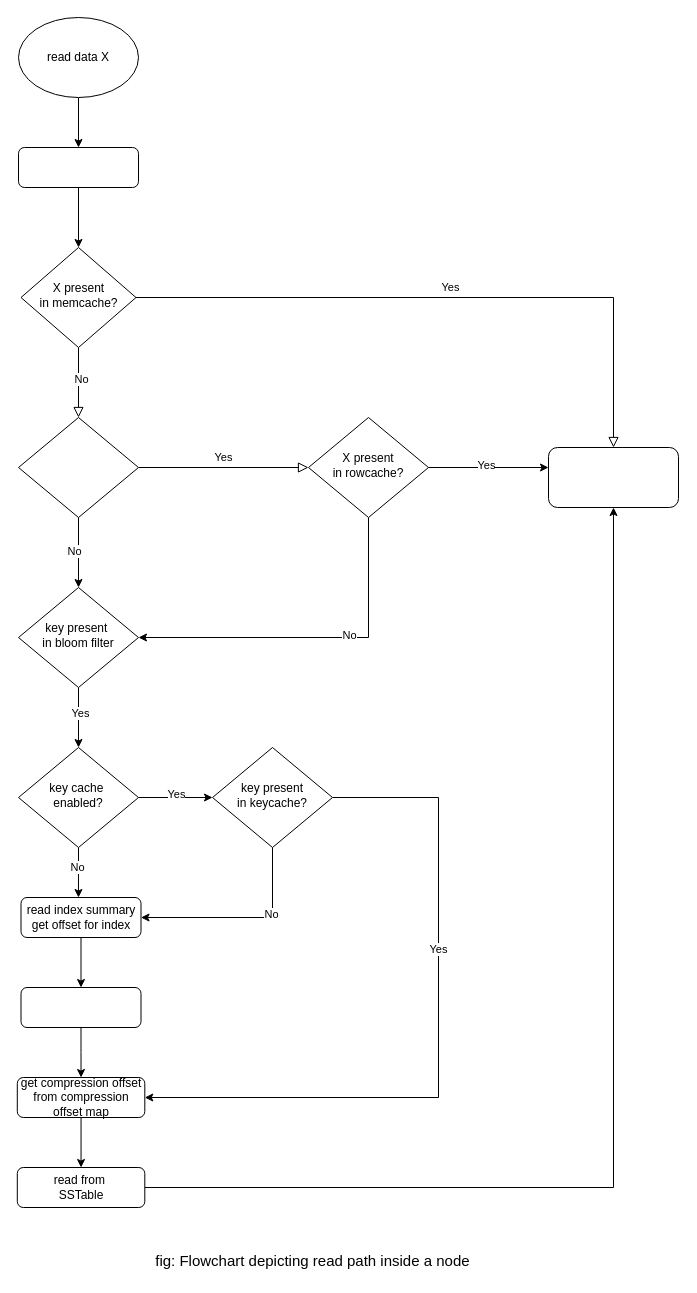
This 697x1293 diagram has some shape labels left out. Each missing label, with the centre of its shape:
Check on memcache: the point at 78,167
read index summary: the point at 80,1007
Return Data: the point at 613,477
rowcache enabled?: the point at 78,467
